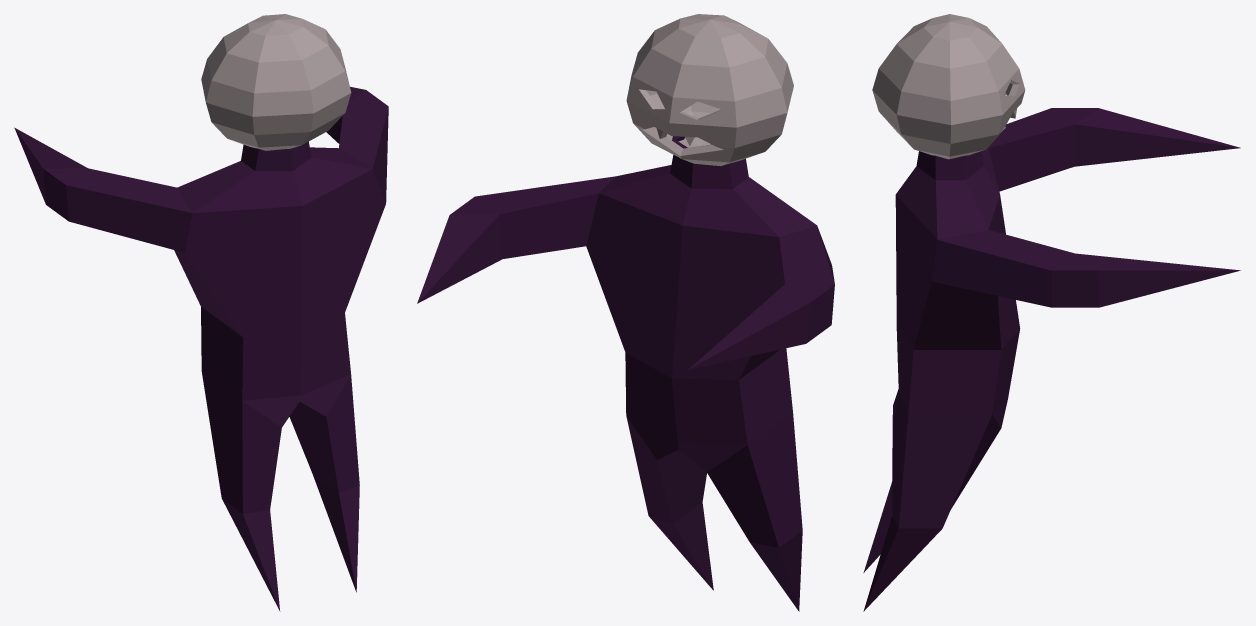
File: Enemy.fbx
3 views of the same model, side by side, from view 1: azimuth 30°, elevation 25°; view 2: azimuth 150°, elevation 25°; view 3: azimuth 270°, elevation 25° (orthographic). The views are drawn at different scales.
Visible parts, largest first — view 1: Голова, Sphere; view 2: Голова, Sphere; view 3: Голова, Sphere.
Boxes of the visible parts, x1=… form: Голова: x1=14, y1=86, x2=388, y2=611; Sphere: x1=201, y1=14, x2=351, y2=150; Голова: x1=417, y1=136, x2=834, y2=611; Sphere: x1=626, y1=14, x2=793, y2=165; Голова: x1=863, y1=108, x2=1240, y2=611; Sphere: x1=872, y1=14, x2=1025, y2=159.
Bounding box in the file's own units: 267 × 436 × 262.
